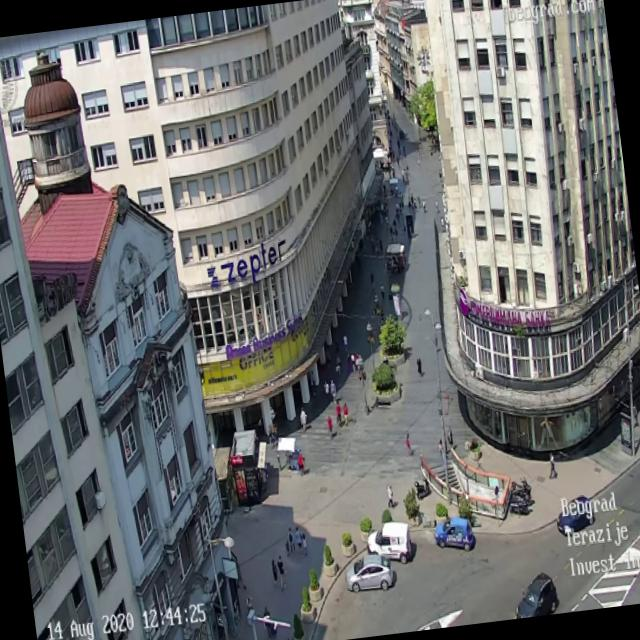car: (511, 570, 560, 618), (342, 550, 394, 595), (554, 493, 596, 538), (431, 514, 476, 554), (367, 521, 411, 555)
